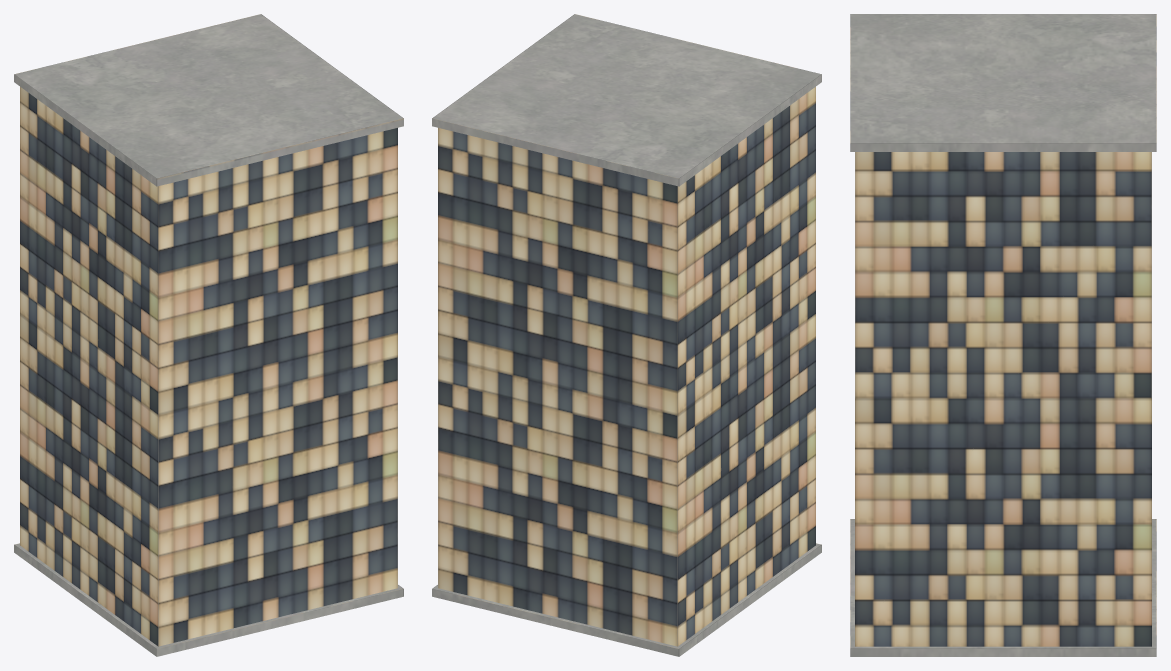
Rendered from building_06.2.glb.
The picture shows the model from 3 angles, left to right: view 1: azimuth 30°, elevation 25°; view 2: azimuth 150°, elevation 25°; view 3: azimuth 270°, elevation 25°; orthographic projection. The views are drawn at different scales.
Parts seen in each view (by area): view 1: building_06.2; view 2: building_06.2; view 3: building_06.2.
Boxes of the visible parts, box(x1,y1,x2,y2) form: building_06.2: box(14, 14, 403, 656); building_06.2: box(432, 14, 821, 656); building_06.2: box(850, 14, 1156, 656).
Size of the model in its own units: 33 by 61 by 33.
Materials: 1 (1 with a texture image).
